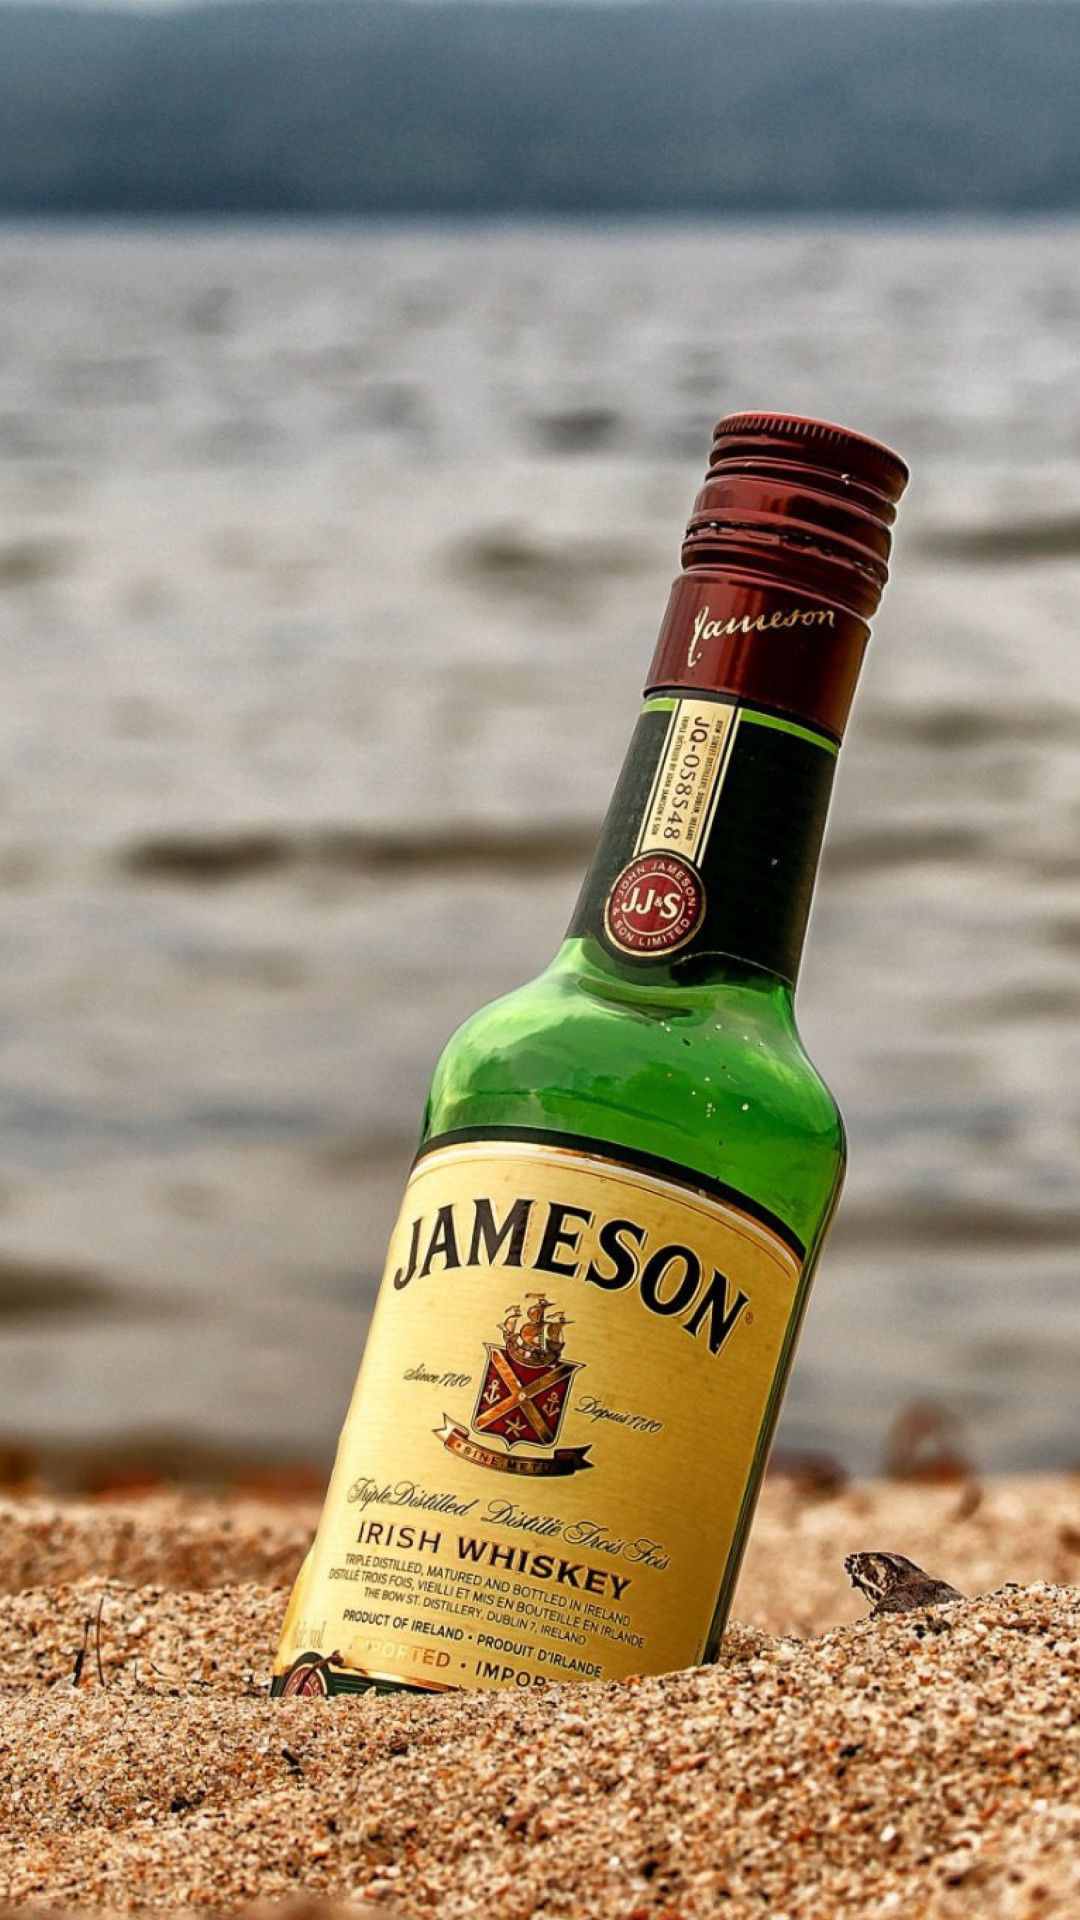Jameson: (233, 402, 923, 1712)
